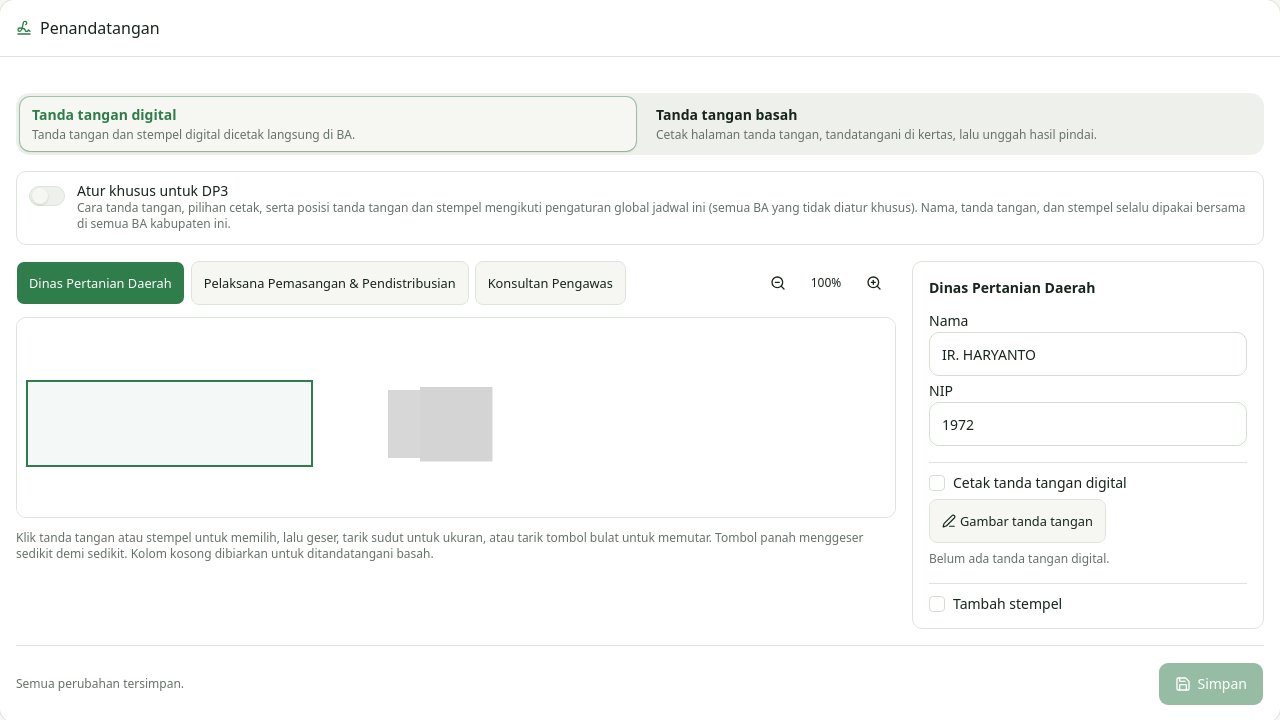
Test: Batal discards unsaved changes
Type " M.SI." into the field labelled "Nama" at (1088, 354), box [929,332,1247,376]
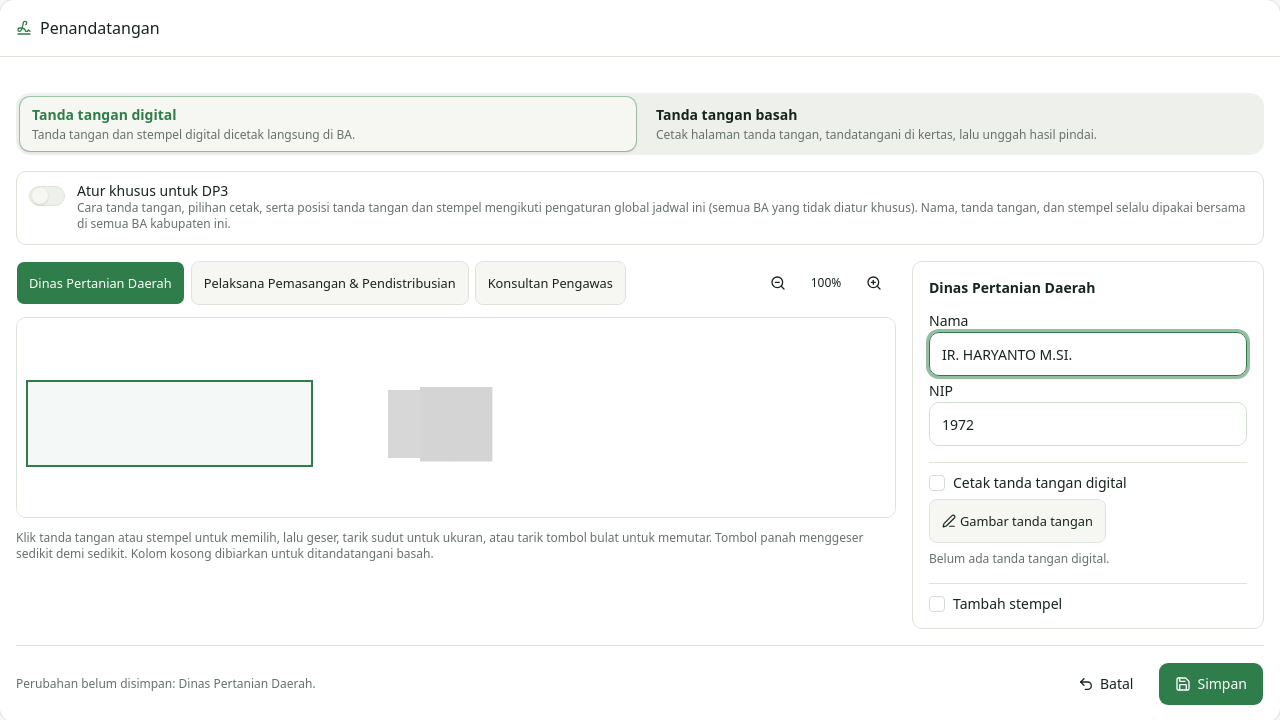
Click the button "Batal" at (1106, 684), box [1061,662,1150,706]
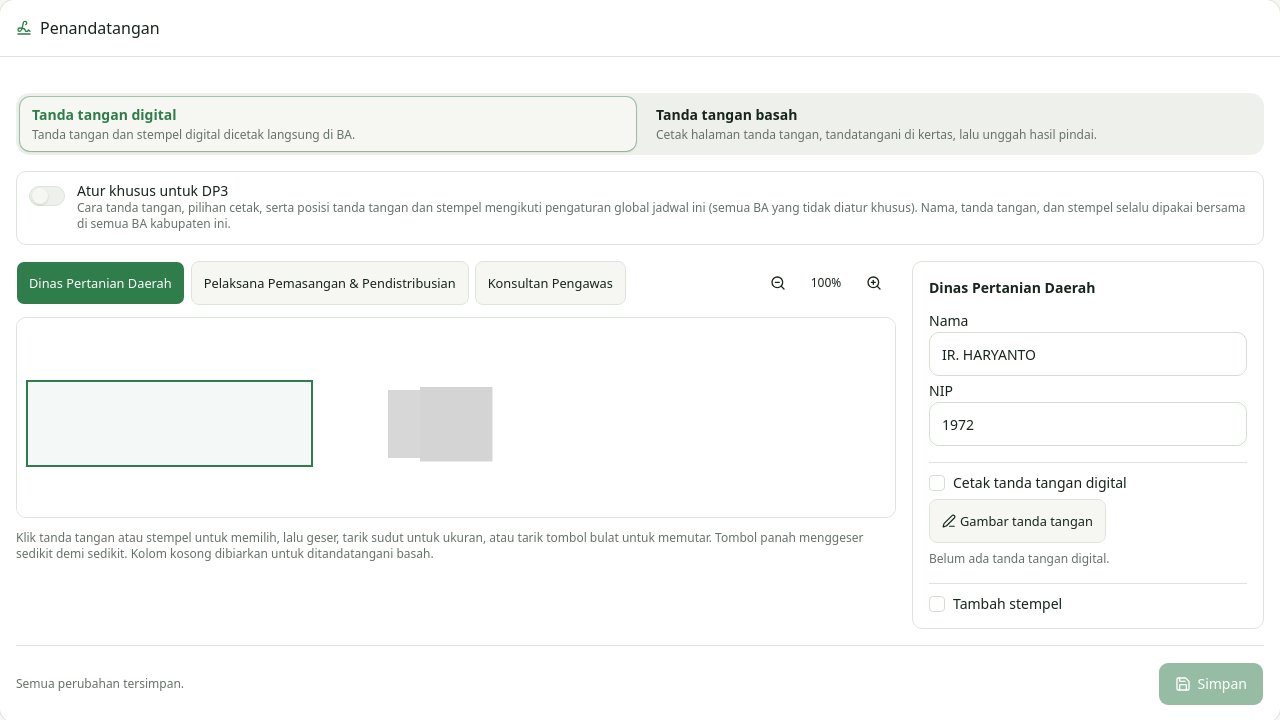
Now the field labelled "Nama" holds "IR. HARYANTO", box [929,332,1247,376]
Now the button "Simpan" is disabled, box [1158,662,1264,706]
